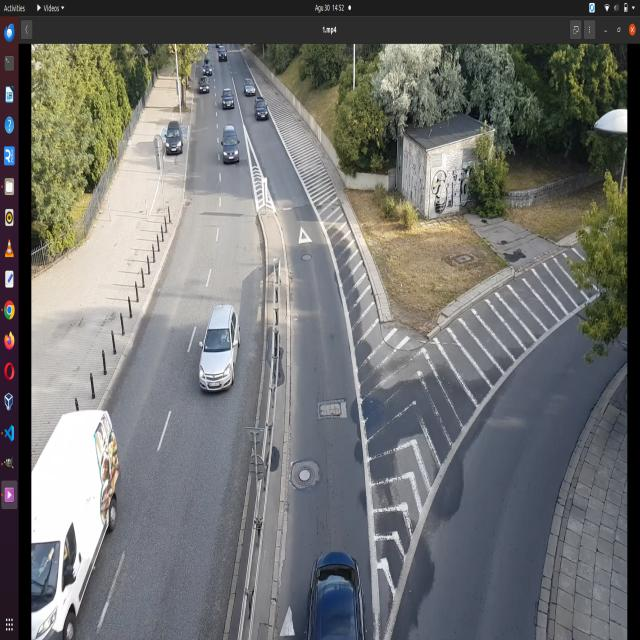person_with_seatbelt: (218, 326, 230, 348)
